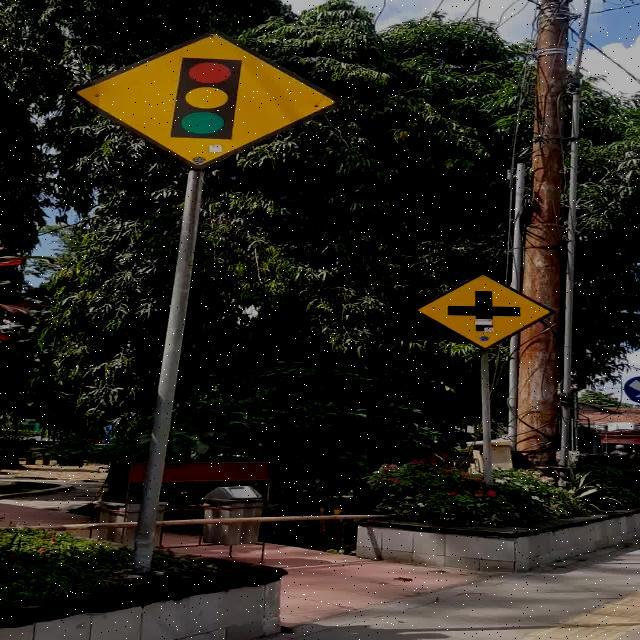Lampu Lalu Lintas: (68, 29, 344, 170)
